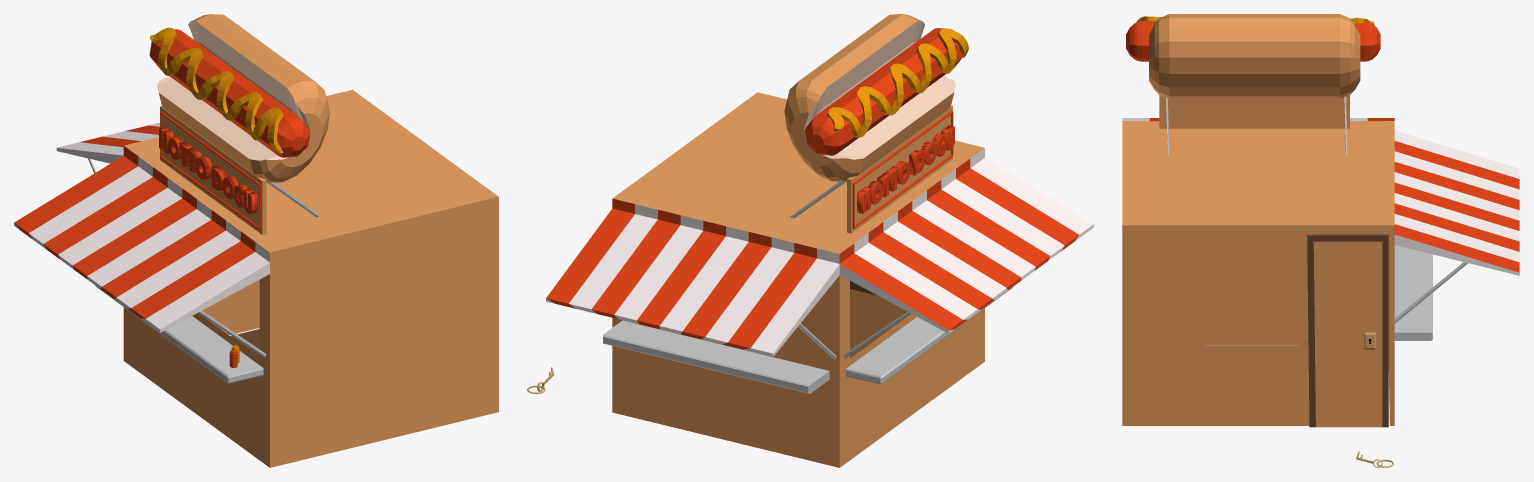
Rendered from StallNew.fbx.
3 renders of one model, left to right at view 1: azimuth 30°, elevation 25°; view 2: azimuth 150°, elevation 25°; view 3: azimuth 270°, elevation 25°, orthographic. The views are drawn at different scales.
Parts seen in each view (by area): view 1: Stall, Bread, Sausage, Mustard.001, HottoDogu; view 2: Stall, Bread, Sausage, Mustard.001, HottoDogu; view 3: Stall, Bread, StallDoor, Sausage.
Boxes of the visible parts, x1,y1,x2,y2 form: Stall: [14, 90, 498, 467]; Bread: [157, 14, 329, 183]; Sausage: [149, 29, 310, 157]; Mustard.001: [150, 27, 283, 153]; HottoDogu: [159, 127, 257, 213]; Stall: [546, 92, 1093, 467]; Bread: [784, 14, 955, 182]; Sausage: [805, 28, 963, 155]; Mustard.001: [827, 28, 968, 137]; HottoDogu: [857, 125, 954, 213]; Stall: [1122, 95, 1519, 425]; Bread: [1149, 14, 1360, 98]; StallDoor: [1307, 234, 1388, 427]; Sausage: [1126, 21, 1380, 61].
Bounding box in the file's own units: 2367 × 1901 × 2042.
